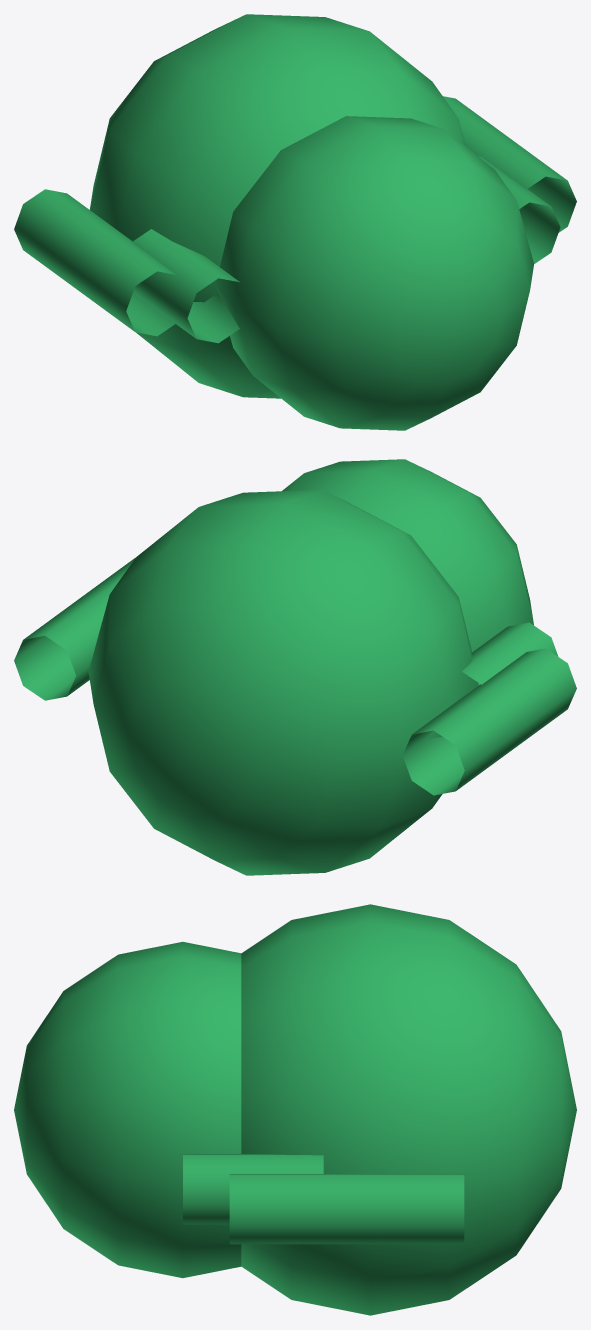
3 views of the same model, one above another, from view 1: azimuth 30°, elevation 25°; view 2: azimuth 150°, elevation 25°; view 3: azimuth 270°, elevation 25° (orthographic). The views are drawn at different scales.
Parts seen in each view (by area): view 1: Tasmanian_Tree_Frog; view 2: Tasmanian_Tree_Frog; view 3: Tasmanian_Tree_Frog.
Boxes of the visible parts, x1,y1,x2,y2 form: Tasmanian_Tree_Frog: (14,14,576,430); Tasmanian_Tree_Frog: (14,459,576,875); Tasmanian_Tree_Frog: (14,904,576,1315).
Bounding box in the file's own units: 0.638 × 0.484 × 0.66.
